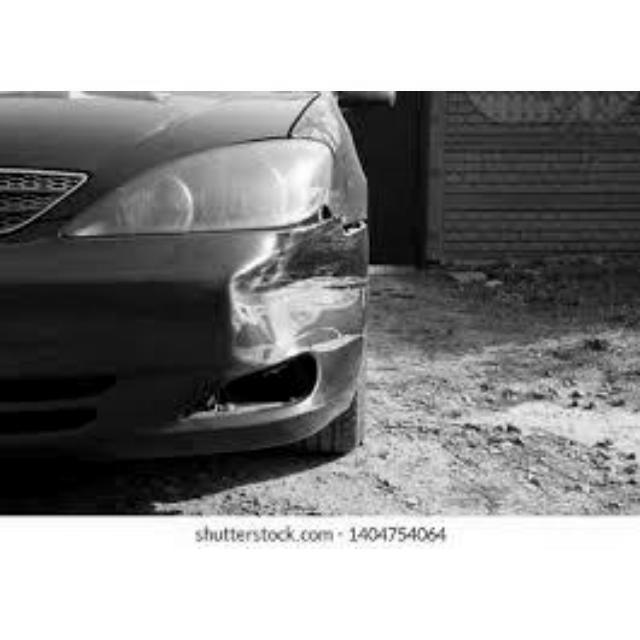front-bumper-dent: (1, 204, 375, 440)
